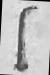U33: (3, 0, 48, 74)
